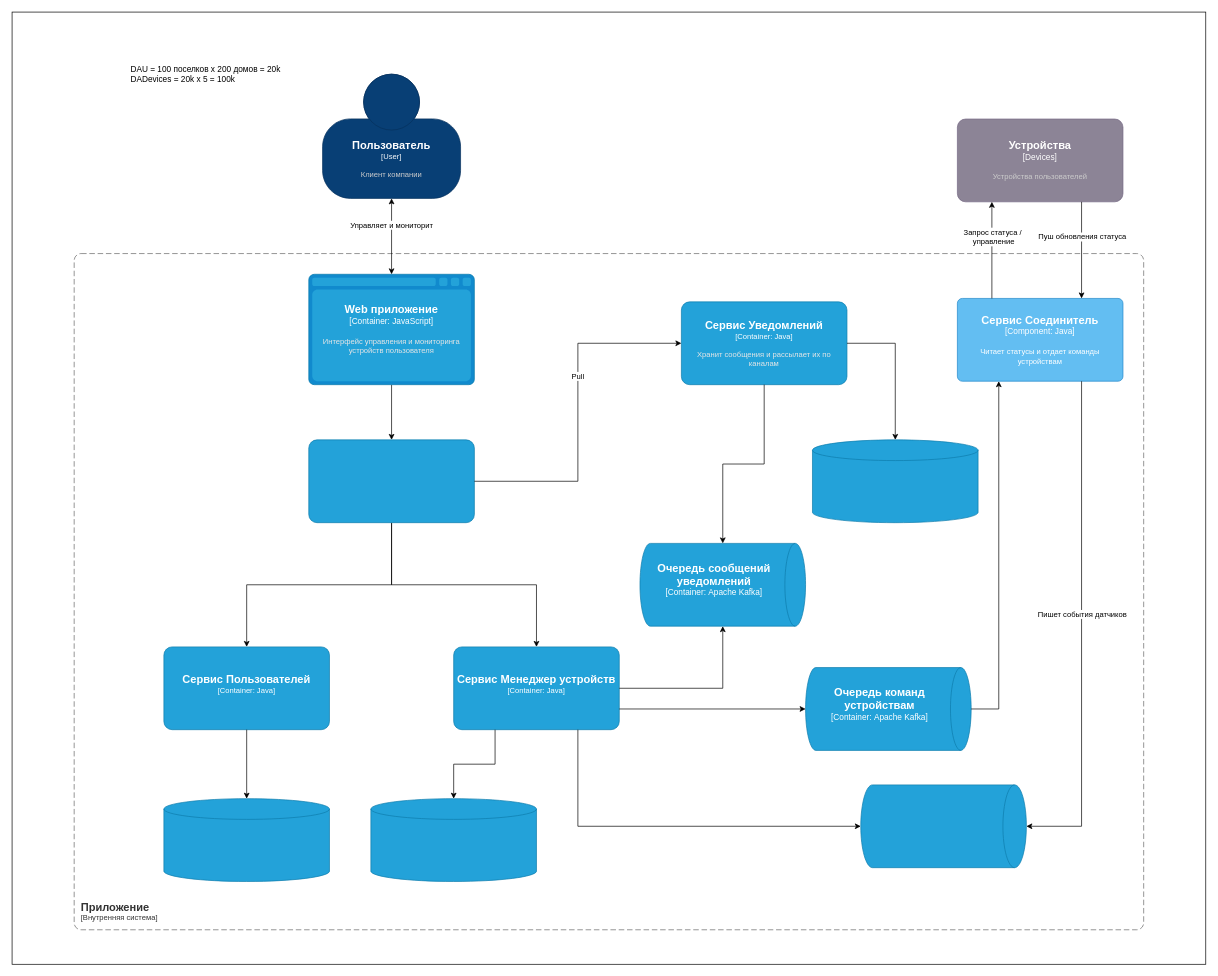
This 1218x976 diagram has some shape labels left out. The shapes that lost their labels are listed below. From the top down, each one's centre as x and y in pixels, then its label:
At (x=391, y=481): "Api Gateway [Container: Kong] Аутентификация, авторизация, маршрутизация".
At (x=895, y=481): "БД уведомлений [Container: Cassandra - колоночная БД]".
At (x=246, y=839): "БД Пользователей [Container: PostgreSQL]".
At (x=453, y=839): "БД устройств [Container: Cassandra]".
At (x=943, y=826): "Лог событий устройств [Container: Apache Kafka]".
